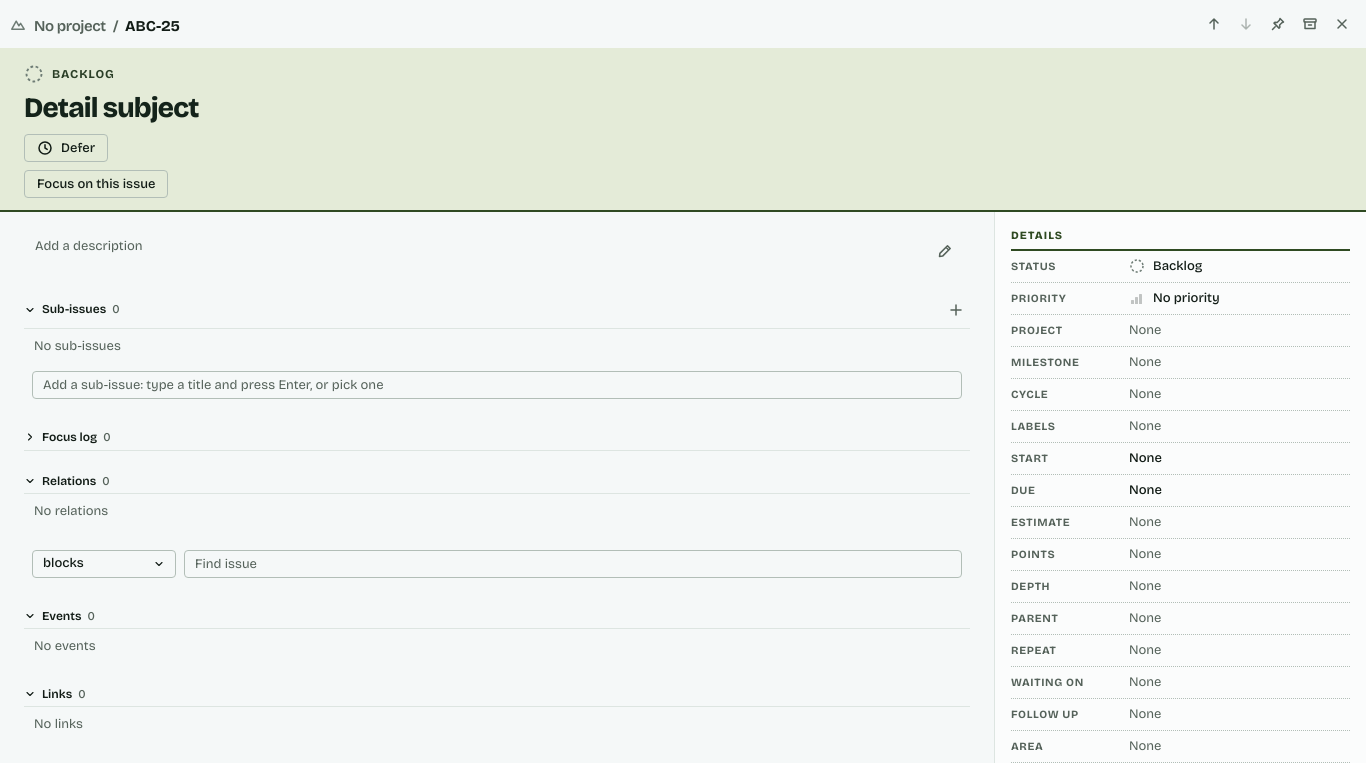
IssueDetail › estimate_edit_calls_api_once_and_shows_value
The width and height of the screenshot is (1366, 763).
Click the button "None" next to "Estimate".
click(1232, 522)  # box [1123, 510, 1342, 534]
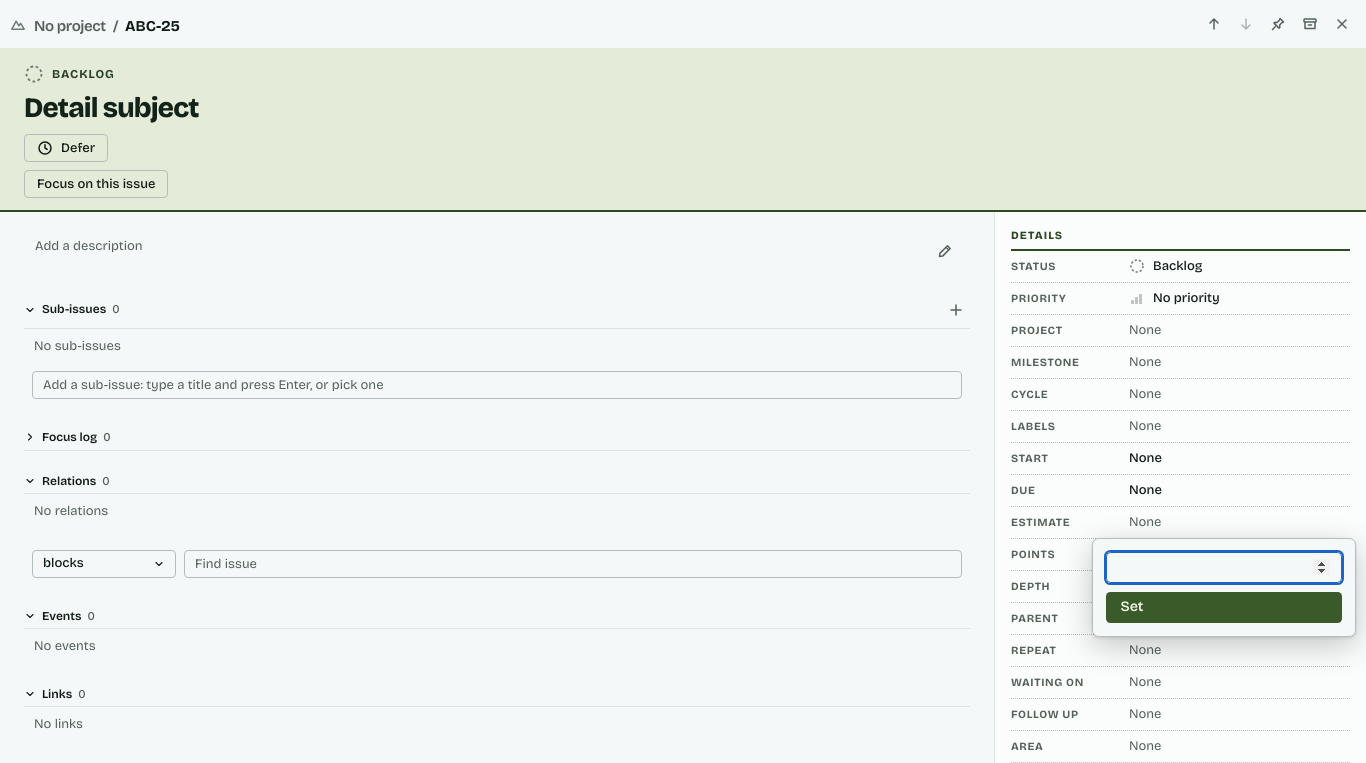
Type "90" into the number field named "Estimate (min)".
click(1224, 568); type("90")  # box [1106, 552, 1342, 583]
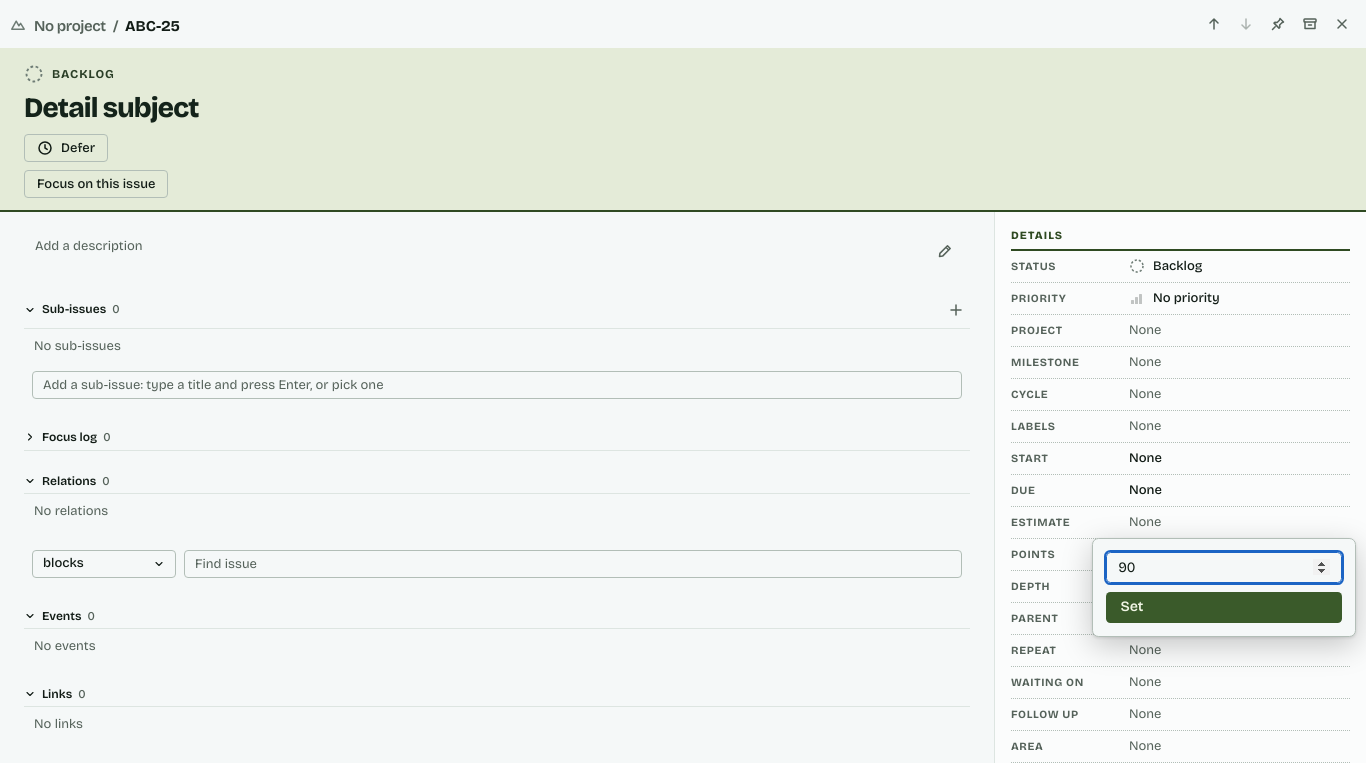
Submit the form with class "stack", box [1106, 552, 1342, 623]
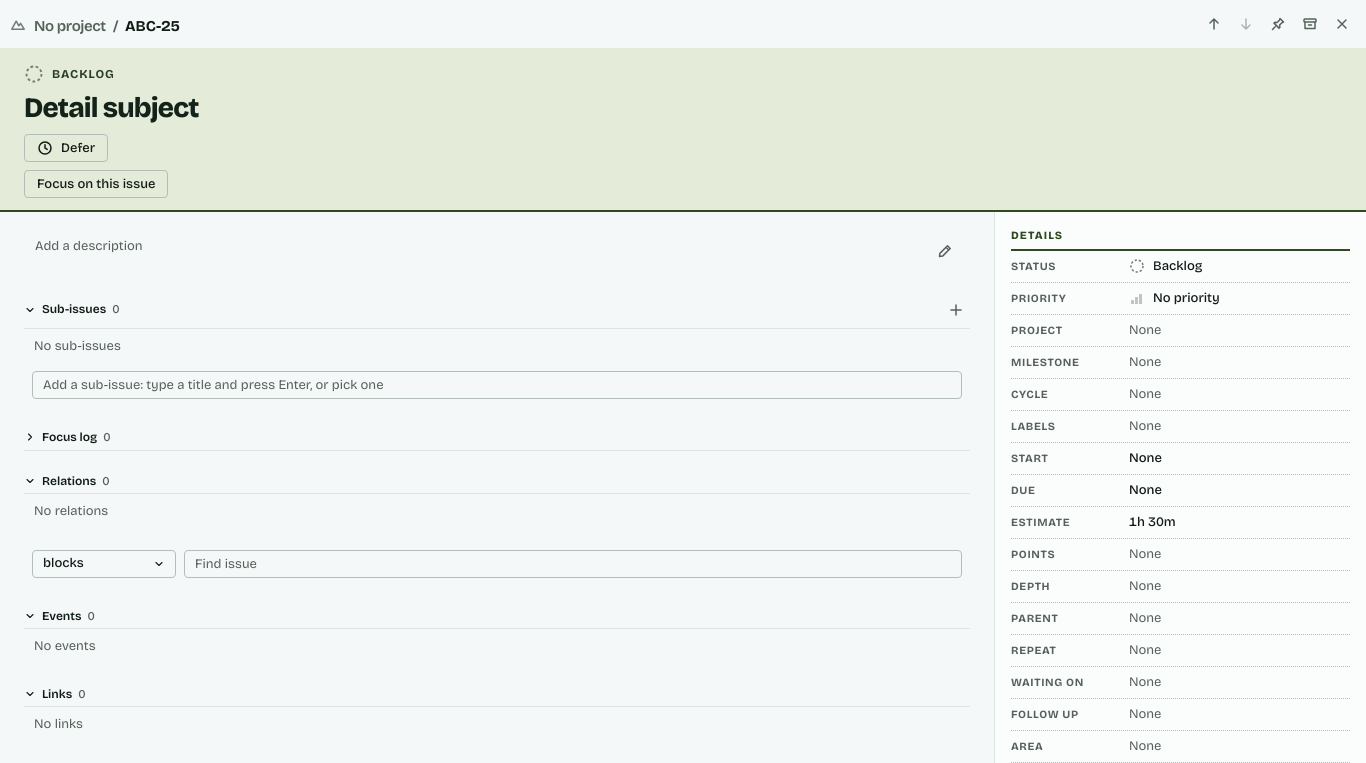
Check: the button "1h 30m" is shown, box [1123, 510, 1342, 534]
